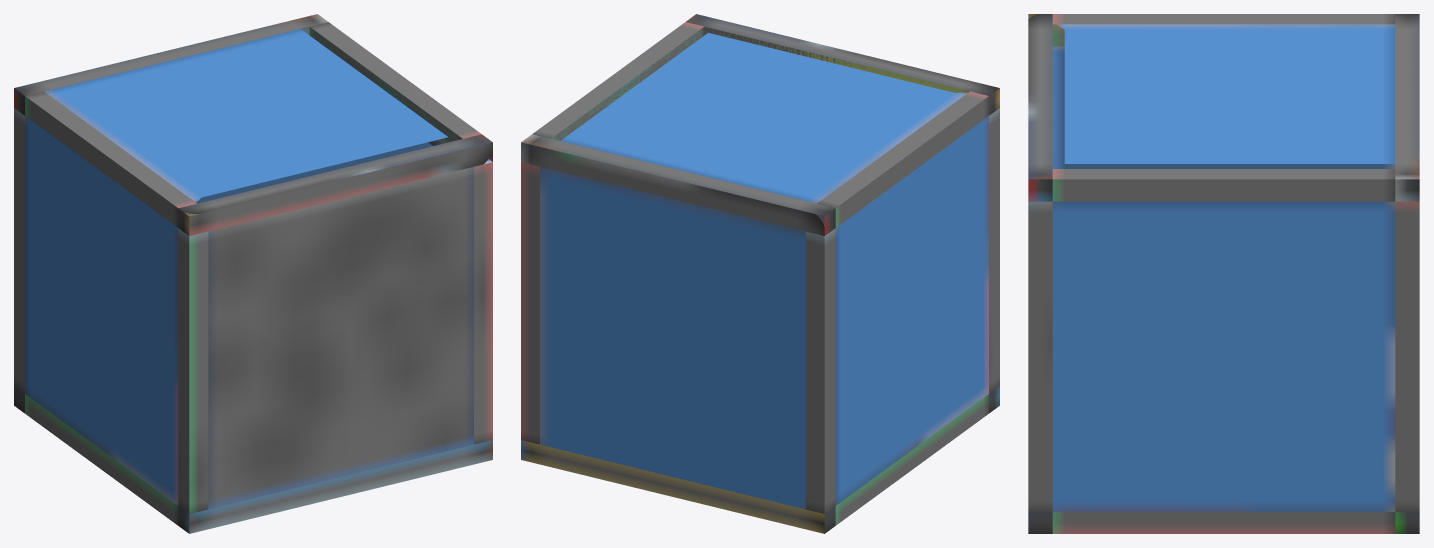
File: boarding_pod_cockpit_model.obj
3 views of the same model, side by side, from view 1: azimuth 30°, elevation 25°; view 2: azimuth 150°, elevation 25°; view 3: azimuth 270°, elevation 25° (orthographic). The views are drawn at different scales.
Parts seen in each view (by area): view 1: cube_7, cube_23, cube_24, cube_18, cube_14, cube_10, cube_19, cube_15, cube_20, cube_17, cube_11, cube_13; view 2: cube_21, cube_23, cube_24, cube_17, cube_13, cube_9, cube_19, cube_16, cube_18, cube_20, cube_11, cube_14; view 3: cube_22, cube_24, cube_20, cube_15, cube_16, cube_12, cube_17, cube_18, cube_19, cube_9, cube_10.
Part boxes in pixels (<box>): cube_7: <box>208,167,473,509</box>; cube_23: <box>25,116,178,505</box>; cube_24: <box>44,26,462,214</box>; cube_18: <box>178,134,492,235</box>; cube_14: <box>178,228,208,513</box>; cube_10: <box>178,440,492,533</box>; cube_19: <box>25,91,196,227</box>; cube_15: <box>474,159,492,444</box>; cube_20: <box>309,22,481,143</box>; cube_17: <box>14,14,327,115</box>; cube_11: <box>25,394,178,525</box>; cube_13: <box>14,108,24,393</box>; cube_21: <box>540,167,805,509</box>; cube_23: <box>835,116,988,505</box>; cube_24: <box>553,29,969,203</box>; cube_17: <box>521,134,835,235</box>; cube_13: <box>805,228,835,513</box>; cube_9: <box>521,440,835,533</box>; cube_19: <box>817,91,988,227</box>; cube_16: <box>521,162,539,444</box>; cube_18: <box>686,14,999,115</box>; cube_20: <box>532,22,704,140</box>; cube_11: <box>835,394,988,525</box>; cube_14: <box>989,108,999,393</box>; cube_22: <box>1052,201,1395,511</box>; cube_24: <box>1052,24,1395,168</box>; cube_20: <box>1052,169,1395,201</box>; cube_15: <box>1028,201,1052,511</box>; cube_16: <box>1395,201,1419,511</box>; cube_12: <box>1052,512,1395,533</box>; cube_17: <box>1395,14,1419,201</box>; cube_18: <box>1028,14,1052,201</box>; cube_19: <box>1052,14,1395,46</box>; cube_9: <box>1395,512,1419,533</box>; cube_10: <box>1028,512,1052,533</box>.
Size of the model in its own units: 1 by 1 by 1.
